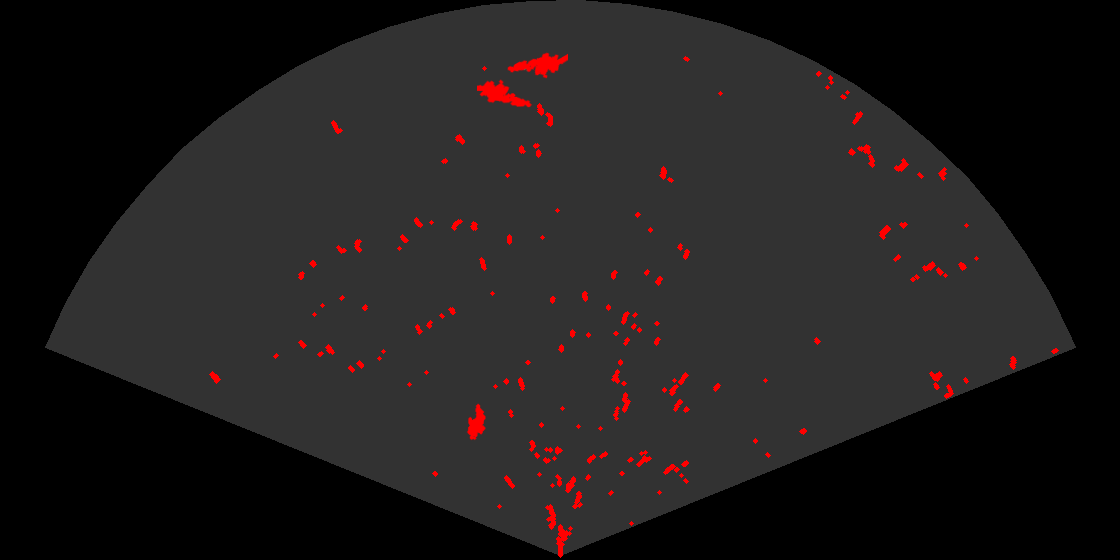AUV: (465, 402, 486, 442)
frogman: (506, 51, 568, 80), (477, 78, 533, 109)
